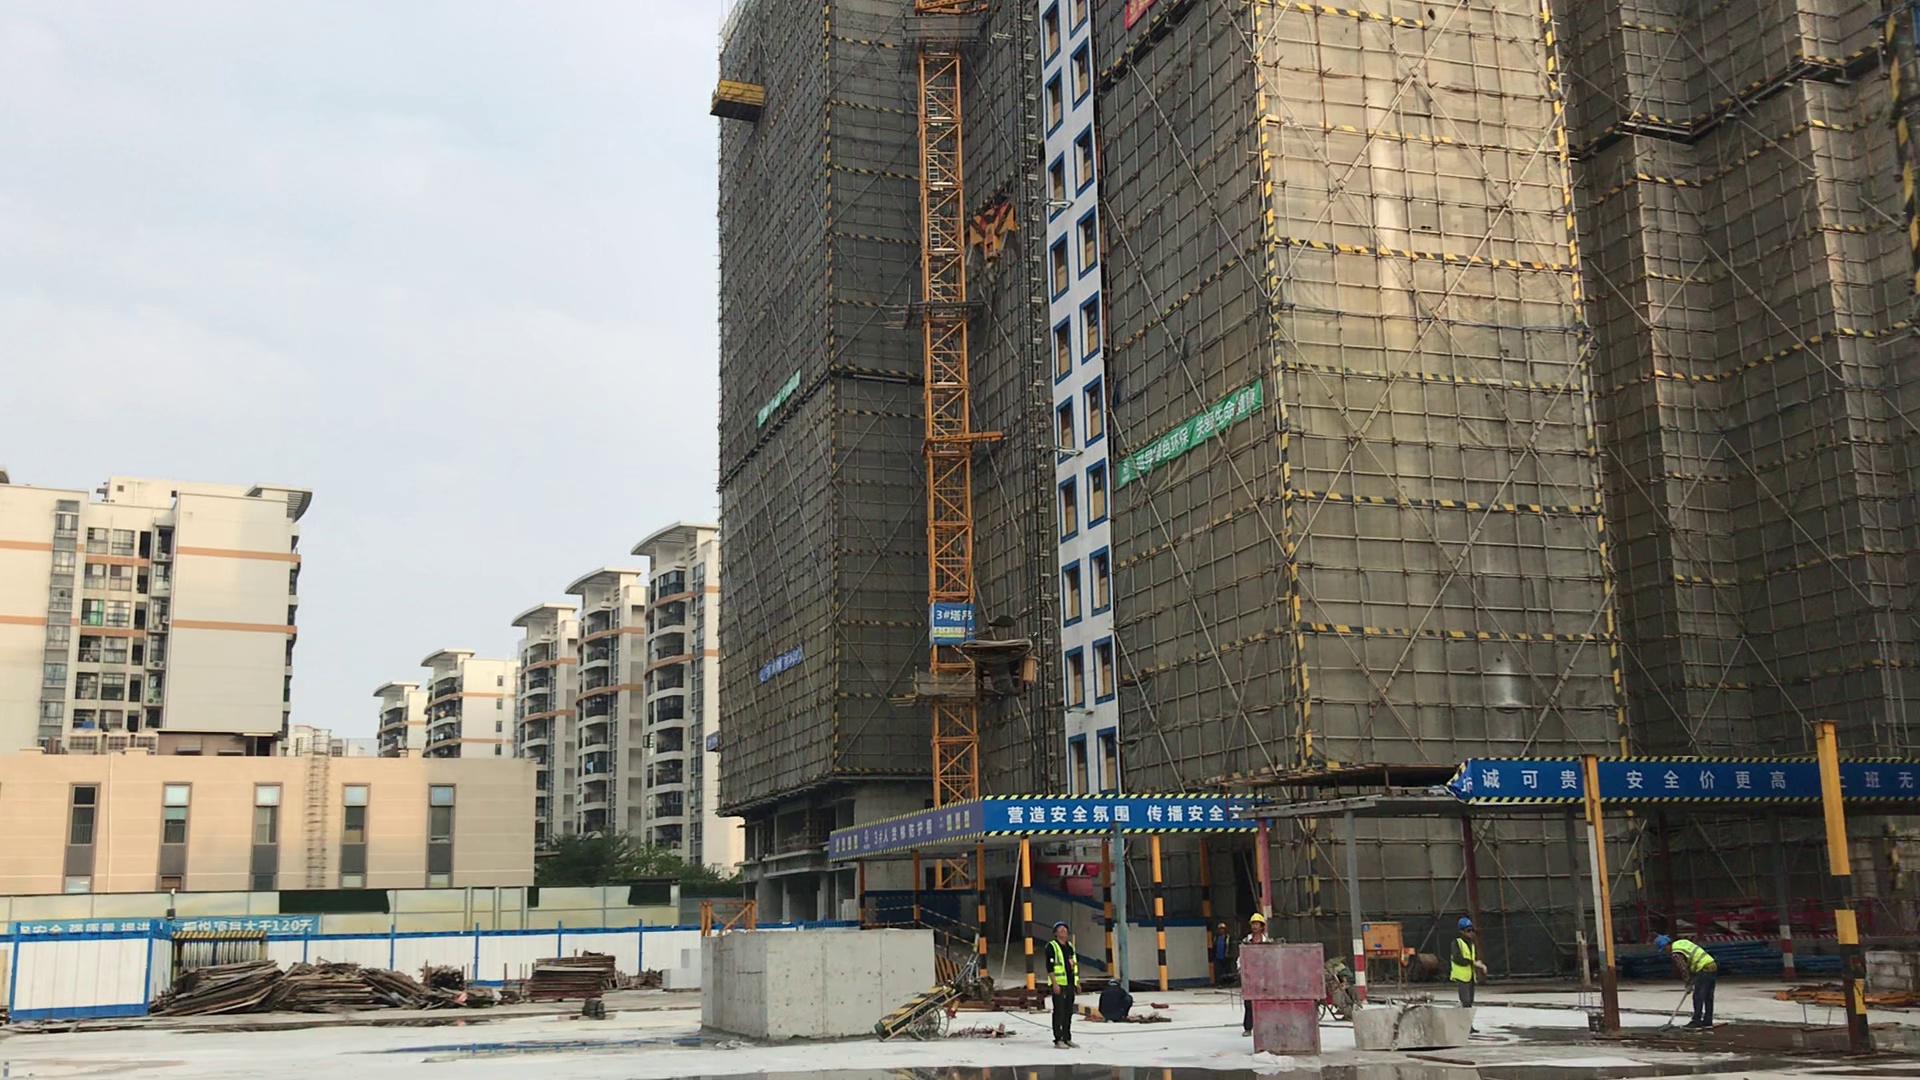ebox: (1363, 918, 1405, 960)
fence: (1631, 892, 1884, 943)
handcart: (1317, 964, 1364, 1024)
helmet: (1652, 931, 1672, 953), (1051, 921, 1071, 932), (1248, 912, 1267, 924), (1456, 918, 1476, 930)
hook: (968, 201, 1023, 267)
hopper: (1347, 1002, 1477, 1054)
person: (1643, 930, 1725, 1037), (1036, 917, 1091, 1048), (1443, 915, 1491, 1035), (1235, 907, 1289, 947)
slogan: (1466, 749, 1920, 800), (1125, 378, 1265, 483), (988, 794, 1273, 836), (828, 795, 987, 864), (7, 915, 324, 941), (757, 376, 803, 429), (755, 649, 804, 686)
vest: (1671, 942, 1718, 976), (1047, 941, 1077, 988), (1450, 936, 1480, 984)
